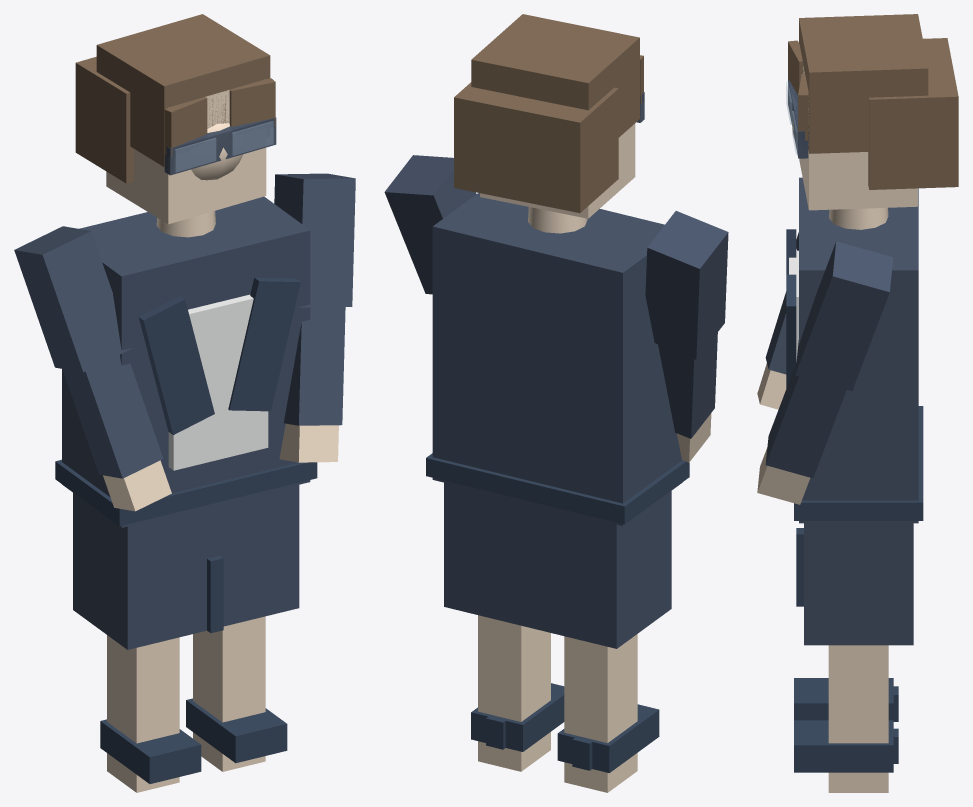
Rendered from suit_woman.gltf.
3 renders of one model, left to right at view 1: azimuth 30°, elevation 25°; view 2: azimuth 150°, elevation 25°; view 3: azimuth 270°, elevation 25°, orthographic.
Visible parts, largest first — view 1: torso, head, lower, legs, arm_L, arm_R; view 2: torso, head, lower, legs, arm_L, arm_R; view 3: head, torso, arm_R, lower, legs, arm_L.
Boxes of the visible parts, x1=… form: torso: x1=55, y1=196, x2=317, y2=527; head: x1=75, y1=14, x2=276, y2=237; lower: x1=73, y1=485, x2=299, y2=649; legs: x1=100, y1=616, x2=287, y2=792; arm_L: x1=14, y1=226, x2=171, y2=511; arm_R: x1=274, y1=173, x2=355, y2=462; torso: x1=426, y1=193, x2=689, y2=525; head: x1=454, y1=14, x2=644, y2=233; lower: x1=444, y1=482, x2=671, y2=648; legs: x1=471, y1=615, x2=659, y2=792; arm_L: x1=645, y1=211, x2=728, y2=462; arm_R: x1=384, y1=155, x2=476, y2=294; head: x1=786, y1=14, x2=958, y2=229; torso: x1=786, y1=177, x2=923, y2=523; arm_R: x1=757, y1=241, x2=893, y2=504; lower: x1=796, y1=523, x2=913, y2=645; legs: x1=794, y1=645, x2=898, y2=792; arm_L: x1=757, y1=232, x2=798, y2=409.
Size of the model in its own units: 72.95 by 159 by 40.41.
